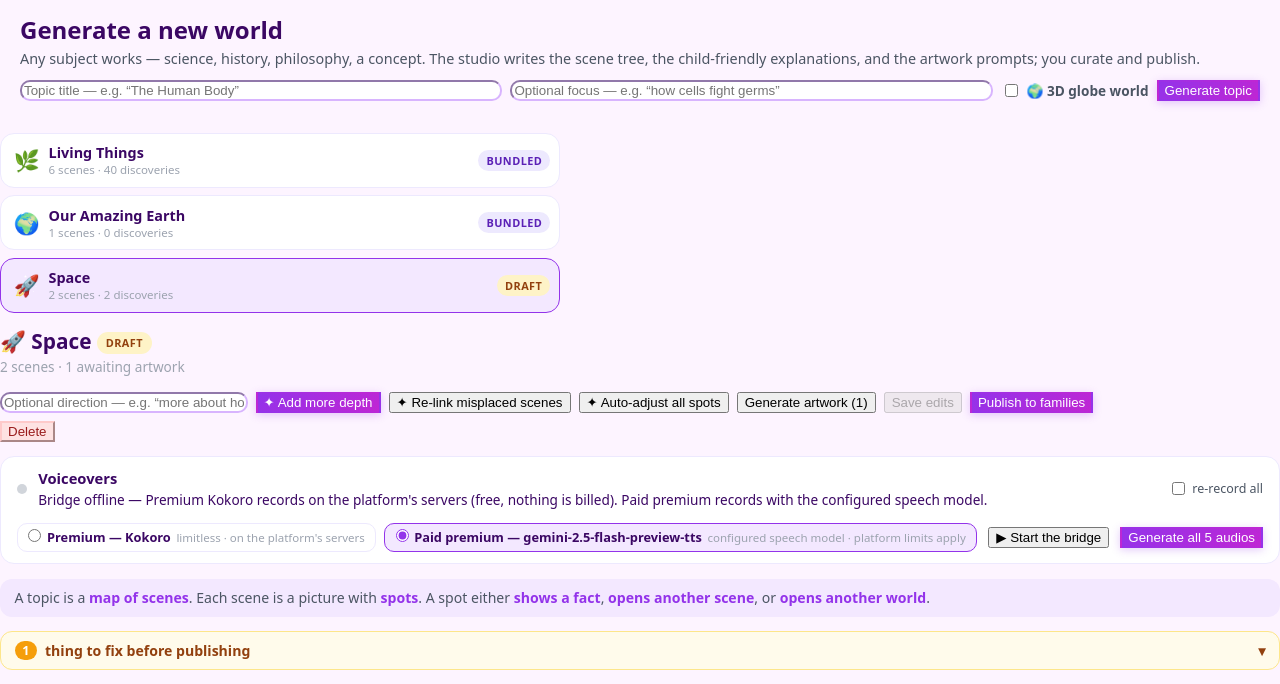
Test: WikidoStudio — premium voiceovers (two options) › Generate audios records missing clips server-side — no bridge needed
Expected: the element that starts with "Voiceovers" shows "Bridge offline", [38,490,988,509]
Click the button "Generate all 5 audios" at (1192, 537), box [1120,527,1263,548]
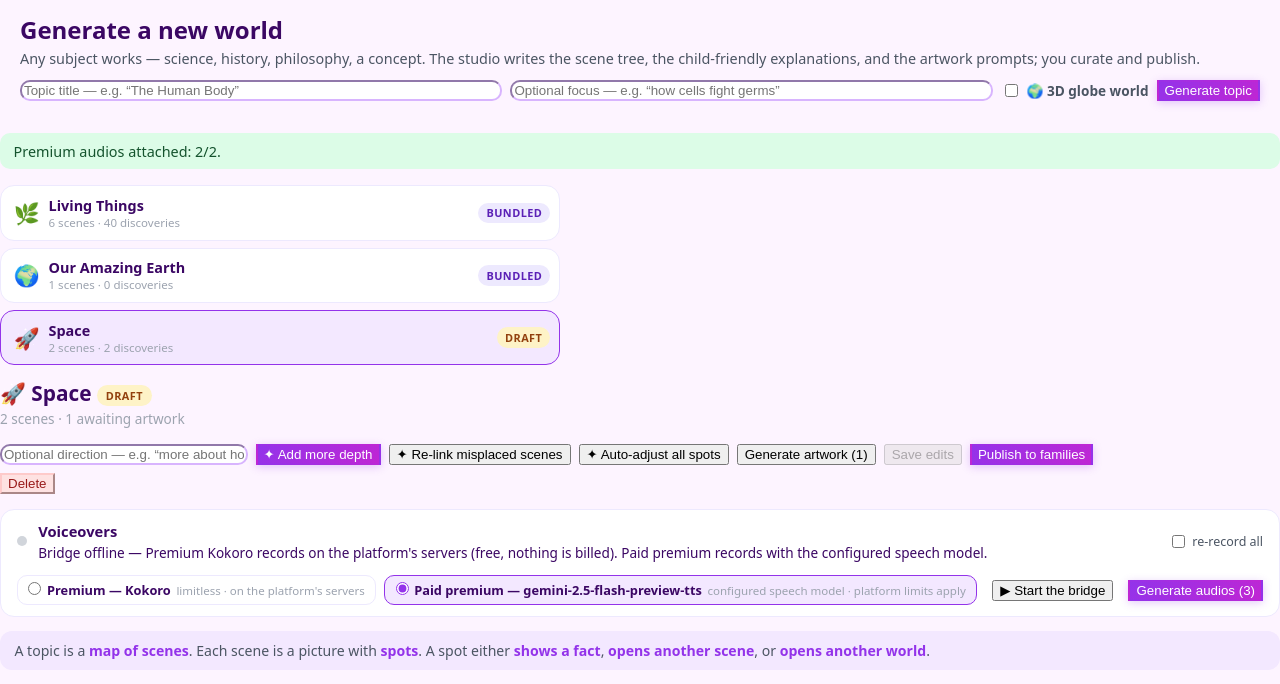
Expected: the text with class "note" shows "Premium audios attached: 2/2", [14,142,221,161]
